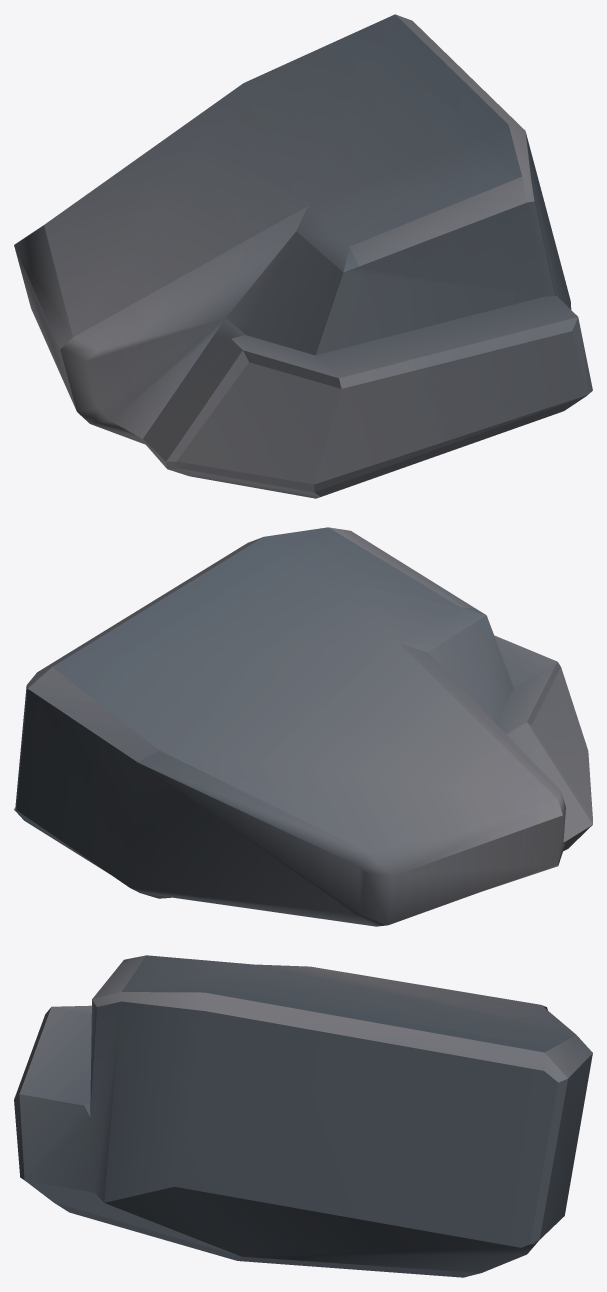
The model's file is VFX_Pebble_A.fbx.
The picture shows the model from 3 angles, top to bottom: view 1: azimuth 30°, elevation 25°; view 2: azimuth 150°, elevation 25°; view 3: azimuth 270°, elevation 25°; orthographic projection. The views are drawn at different scales.
Visible parts, largest first — view 1: VFX_Pebble_A; view 2: VFX_Pebble_A; view 3: VFX_Pebble_A.
Boxes of the visible parts, x1,y1,x2,y2 form: VFX_Pebble_A: (14, 14, 592, 498); VFX_Pebble_A: (14, 527, 592, 926); VFX_Pebble_A: (14, 955, 592, 1277).
Bounding box in the file's own units: 0.3347 × 0.1922 × 0.3442.
